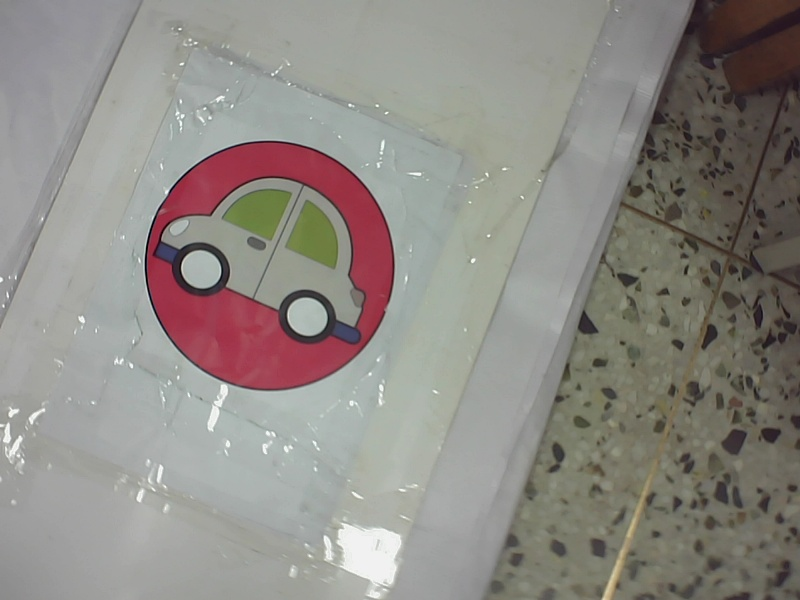areaC: (132, 130, 411, 393)
